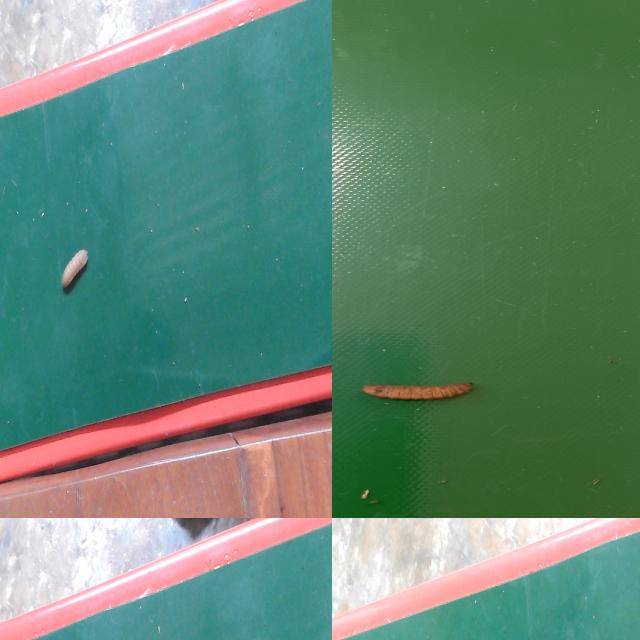Maggot: (360, 382, 473, 403), (59, 251, 88, 296)
